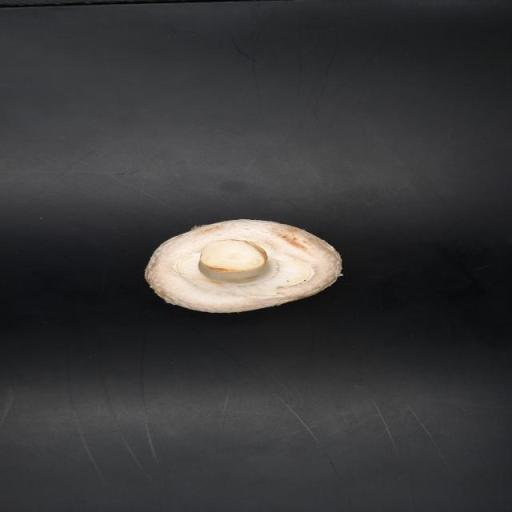Button Mushroom: (139, 208, 347, 325)
